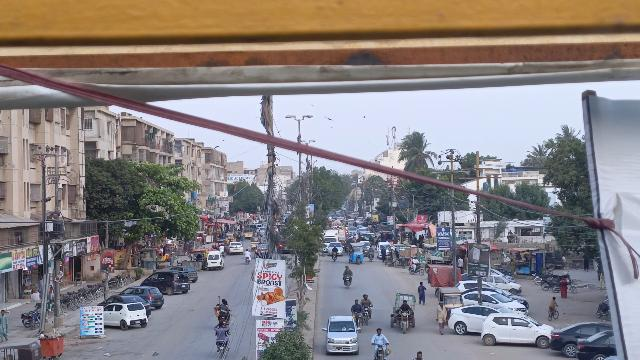Bike: (370, 344, 389, 360), (215, 340, 230, 360), (361, 305, 373, 327), (353, 310, 365, 330), (341, 273, 354, 290), (219, 315, 231, 326)
Car: (481, 311, 554, 347), (549, 318, 607, 359), (446, 303, 505, 336), (322, 312, 363, 357), (575, 328, 616, 358), (102, 303, 150, 328), (126, 284, 165, 308), (107, 294, 152, 309), (189, 296, 190, 297)
Cart: (389, 289, 417, 333)
Person: (435, 299, 448, 336), (370, 326, 389, 347), (0, 308, 10, 345), (212, 321, 231, 340), (417, 279, 427, 305), (218, 296, 228, 314), (351, 298, 362, 313), (401, 296, 410, 313), (361, 292, 371, 307), (343, 264, 353, 277)
Rickshaw: (436, 285, 464, 322), (348, 242, 365, 266)
Van: (139, 270, 192, 294), (206, 251, 224, 270)
